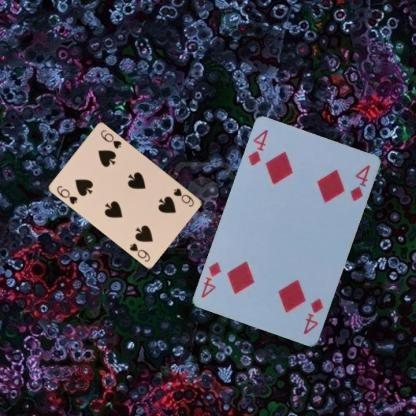4d: (300, 294, 325, 336), (245, 127, 270, 169)
6s: (54, 183, 79, 206), (171, 185, 195, 208)
